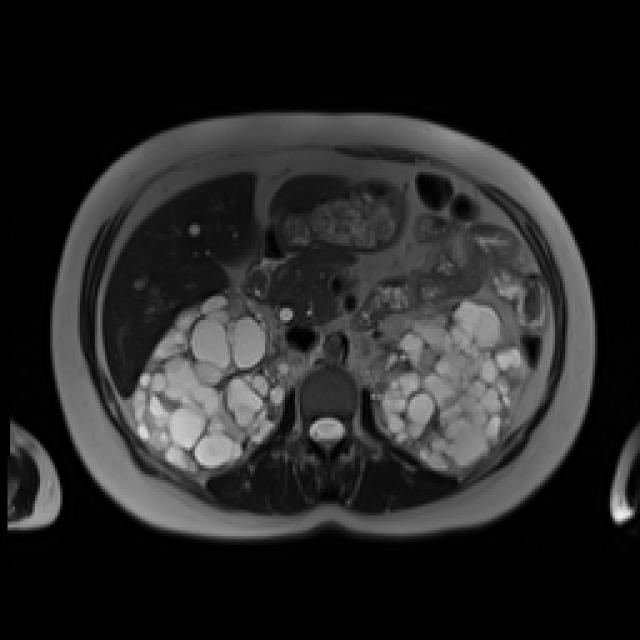sag: (130, 289, 307, 477)
sol: (369, 297, 531, 474)
